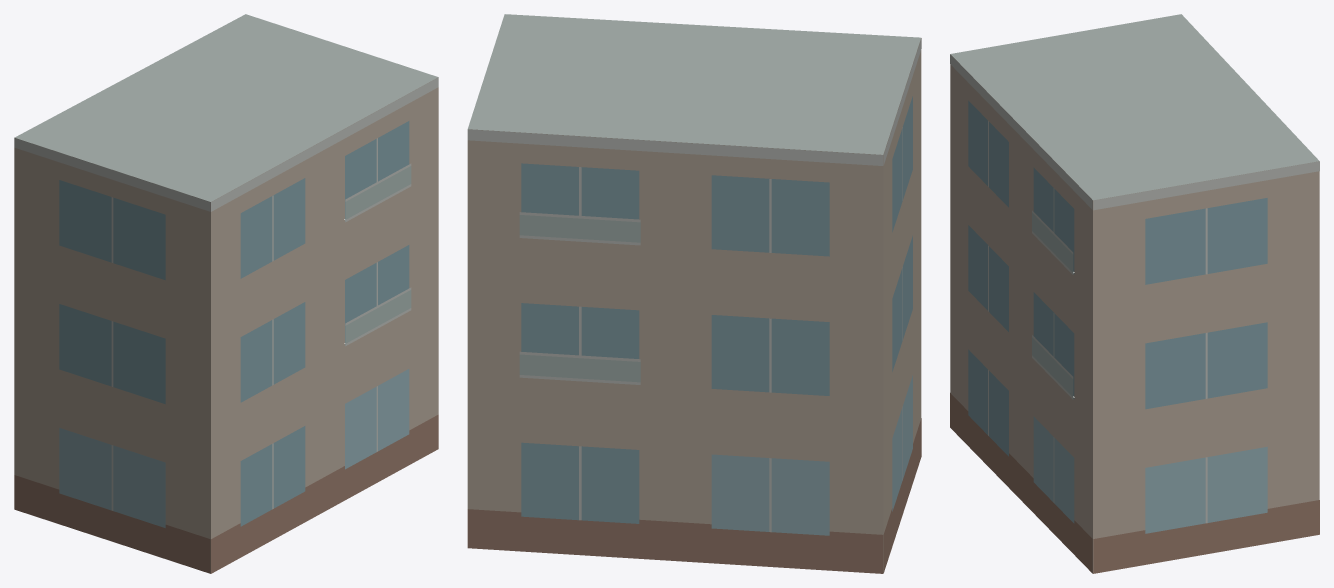
File: survey-upis-32498034.glb
3 renders of one model, left to right at view 1: azimuth 30°, elevation 25°; view 2: azimuth 150°, elevation 25°; view 3: azimuth 270°, elevation 25°, orthographic. The views are drawn at different scales.
Parts seen in each view (by area): view 1: survey-upis-32498034.tmp; view 2: survey-upis-32498034.tmp; view 3: survey-upis-32498034.tmp.
Part boxes in pixels (left/top/right/bottom): survey-upis-32498034.tmp: left=14, top=14, right=438, bottom=573; survey-upis-32498034.tmp: left=467, top=14, right=921, bottom=573; survey-upis-32498034.tmp: left=950, top=14, right=1319, bottom=573.
Bounding box in the file's own units: 9.75 × 9.1 × 8.17.
